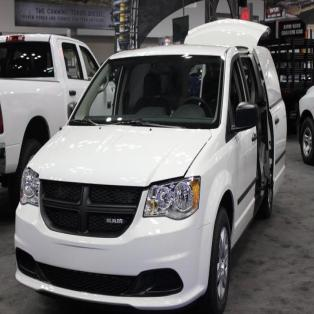Auto: (13, 18, 288, 312)
